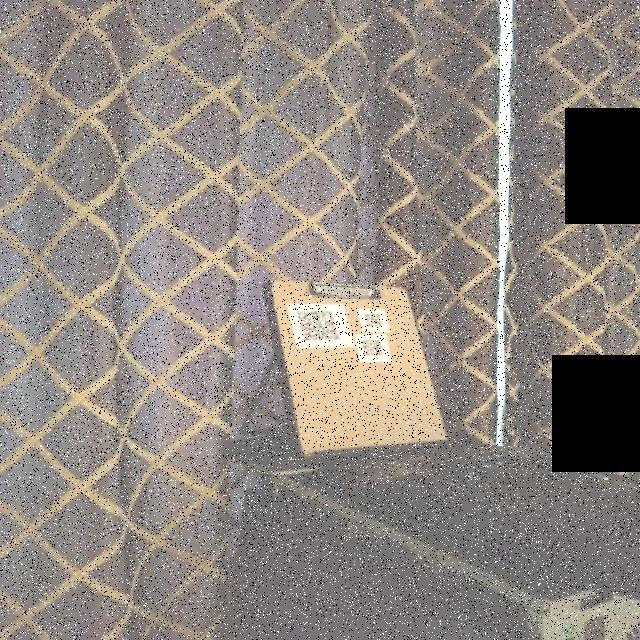QR_CODE: (288, 301, 346, 345), (356, 335, 395, 361), (360, 309, 392, 330)
